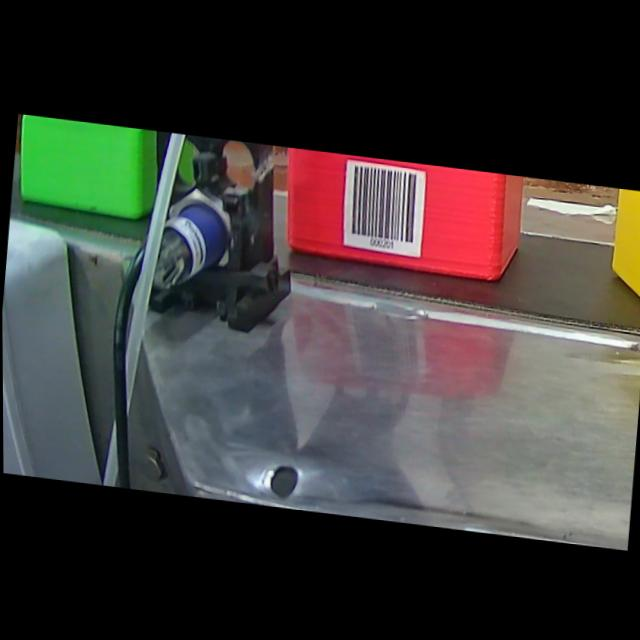greenBox: (9, 114, 208, 233)
redBox: (275, 144, 530, 282)
yellowBox: (600, 182, 640, 317)
